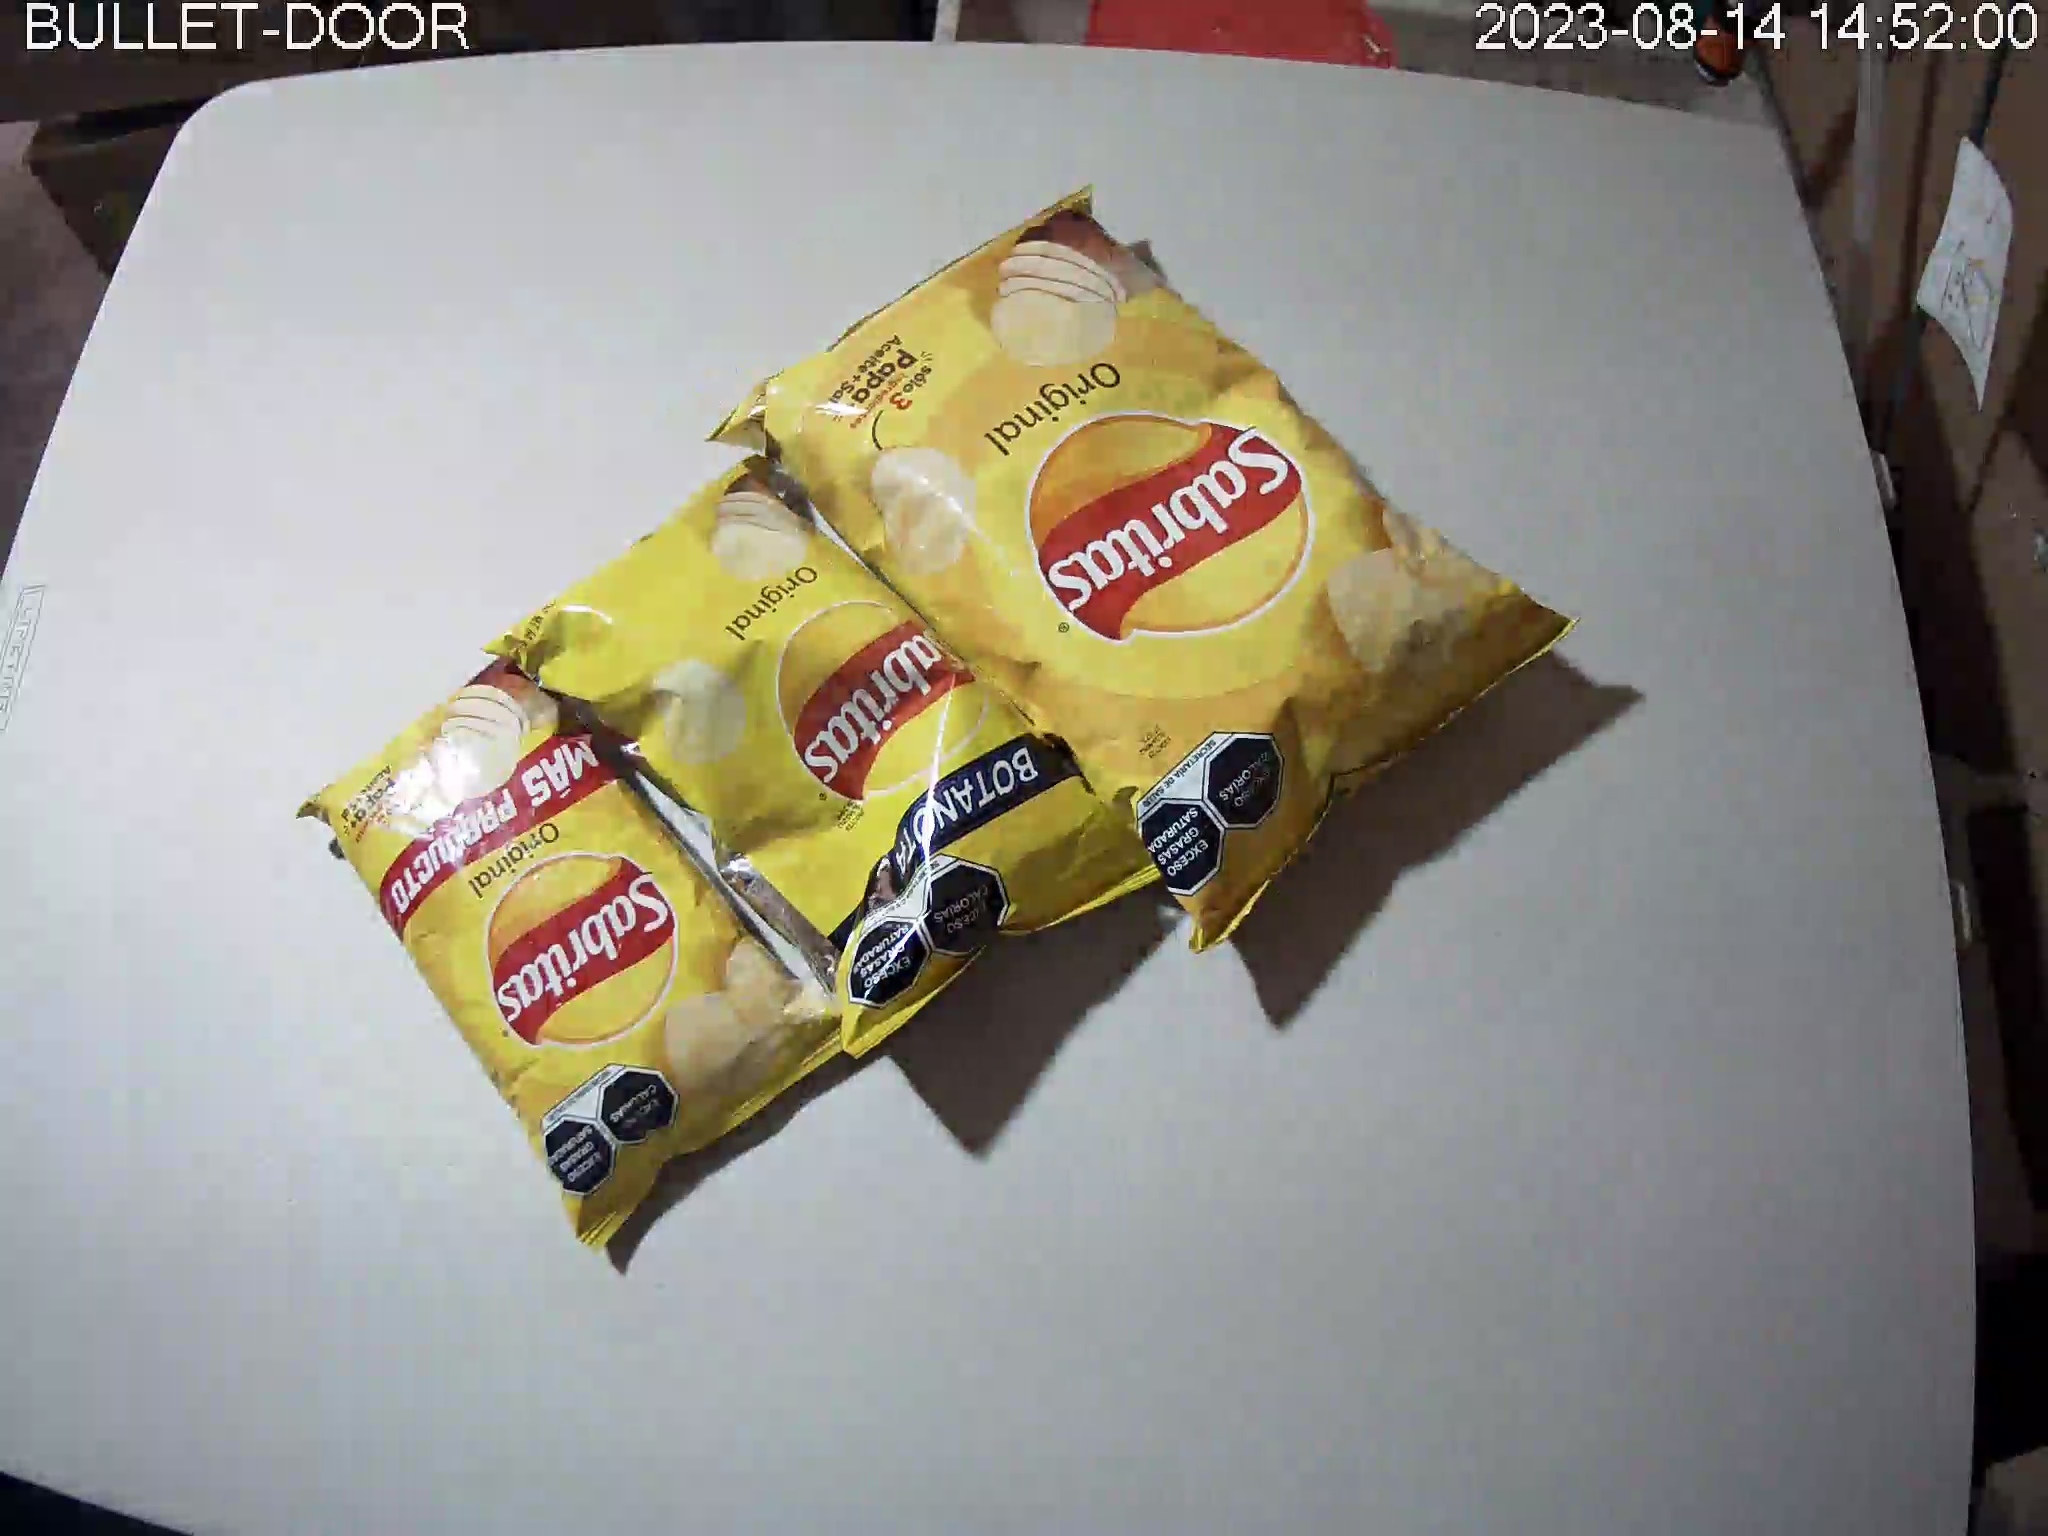Sabritas_160_F: (708, 186, 1584, 955)
Sabritas_45_F: (293, 641, 877, 1249)
Sabritas_64_F: (479, 453, 1190, 1058)
